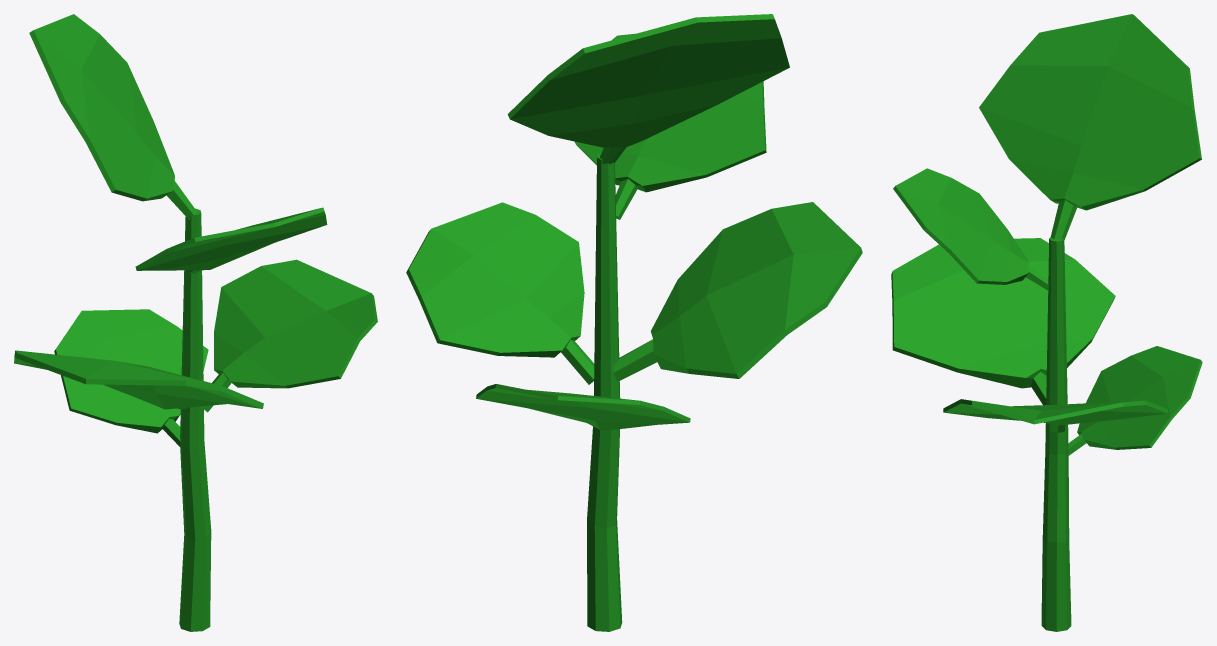
The model's file is CarrotLeaves.fbx.
The picture shows the model from 3 angles, left to right: view 1: azimuth 30°, elevation 25°; view 2: azimuth 150°, elevation 25°; view 3: azimuth 270°, elevation 25°; orthographic projection. The views are drawn at different scales.
Visible parts, largest first — view 1: Leaves; view 2: Leaves; view 3: Leaves.
Boxes of the visible parts, x1,y1,x2,y2 form: Leaves: (14, 14, 377, 631); Leaves: (406, 14, 862, 631); Leaves: (891, 14, 1202, 631).
Size of the model in its own units: 51.13 by 82.04 by 41.58.
